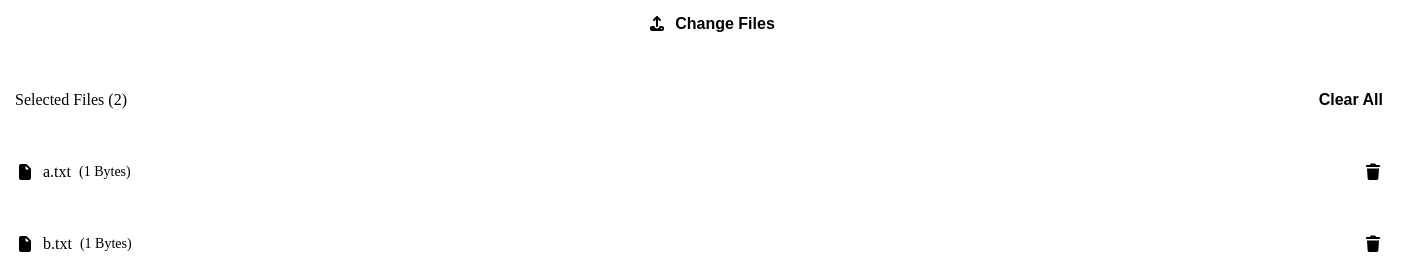
Test: FileUpload › file list › stops listing a removed file
This screenshot has width=1424, height=269.
Click the button named "Remove a.txt" at {"x": 1373, "y": 172}, box x1=1339 y1=148 x2=1407 y2=196
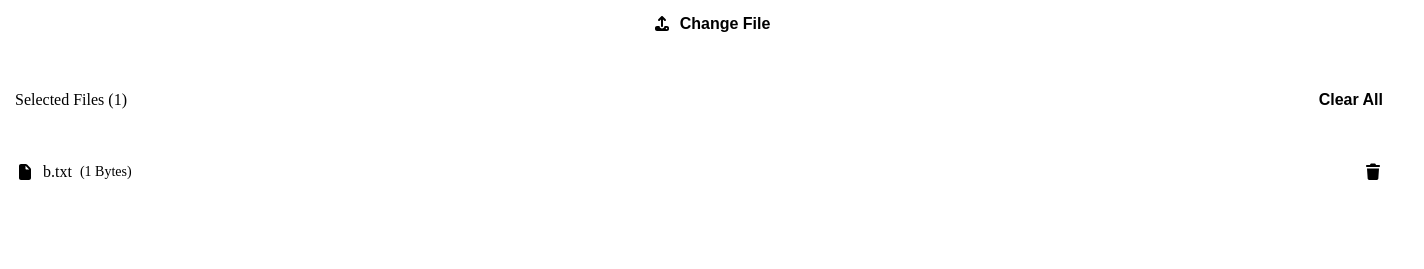
Expected: the text "a.txt" is gone
